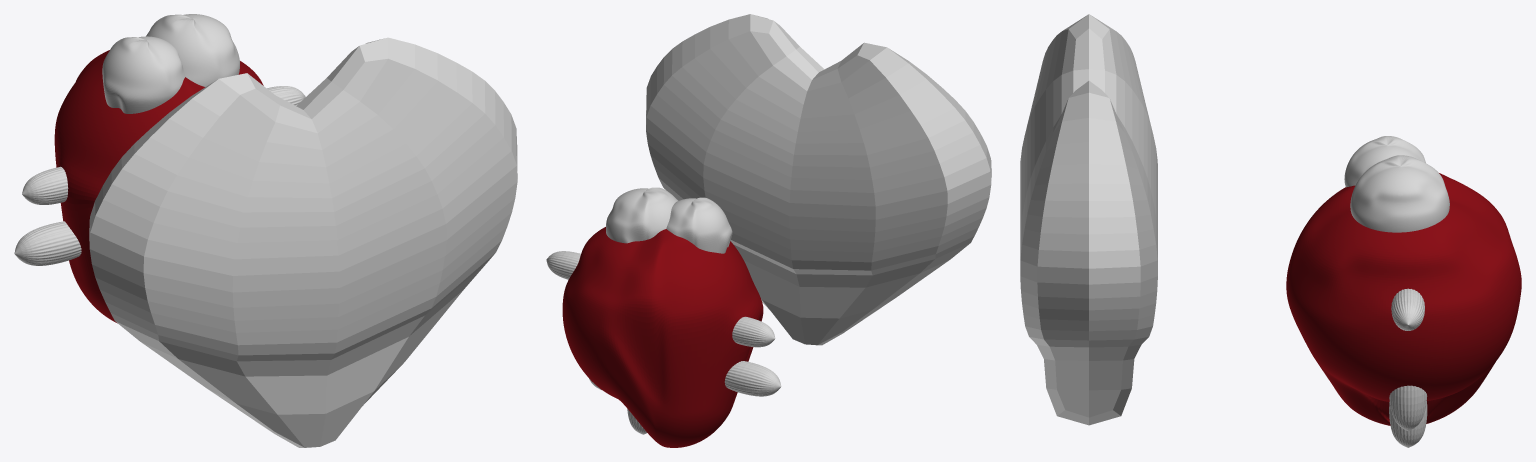
The model's file is Heart.fbx.
The picture shows the model from 3 angles, left to right: view 1: azimuth 30°, elevation 25°; view 2: azimuth 150°, elevation 25°; view 3: azimuth 270°, elevation 25°; orthographic projection. The views are drawn at different scales.
Visible parts, largest first — view 1: Heart, RealHeart; view 2: Heart, RealHeart; view 3: RealHeart, Heart.
Part boxes in pixels (x1=…): Heart: x1=89, y1=37, x2=517, y2=447; RealHeart: x1=14, y1=14, x2=305, y2=323; Heart: x1=646, y1=14, x2=991, y2=345; RealHeart: x1=546, y1=187, x2=781, y2=447; RealHeart: x1=1286, y1=136, x2=1521, y2=447; Heart: x1=1020, y1=14, x2=1157, y2=425.
Size of the model in its own units: 3.23 by 2.82 by 3.45.
